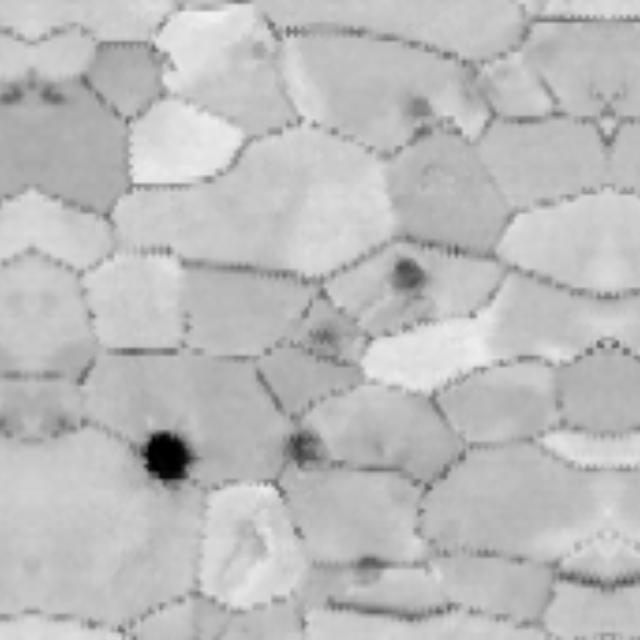good_void: (125, 418, 199, 491), (386, 246, 438, 302), (273, 425, 328, 473), (390, 88, 437, 130), (346, 545, 386, 591), (303, 319, 347, 359), (37, 77, 77, 111), (0, 77, 28, 111)
